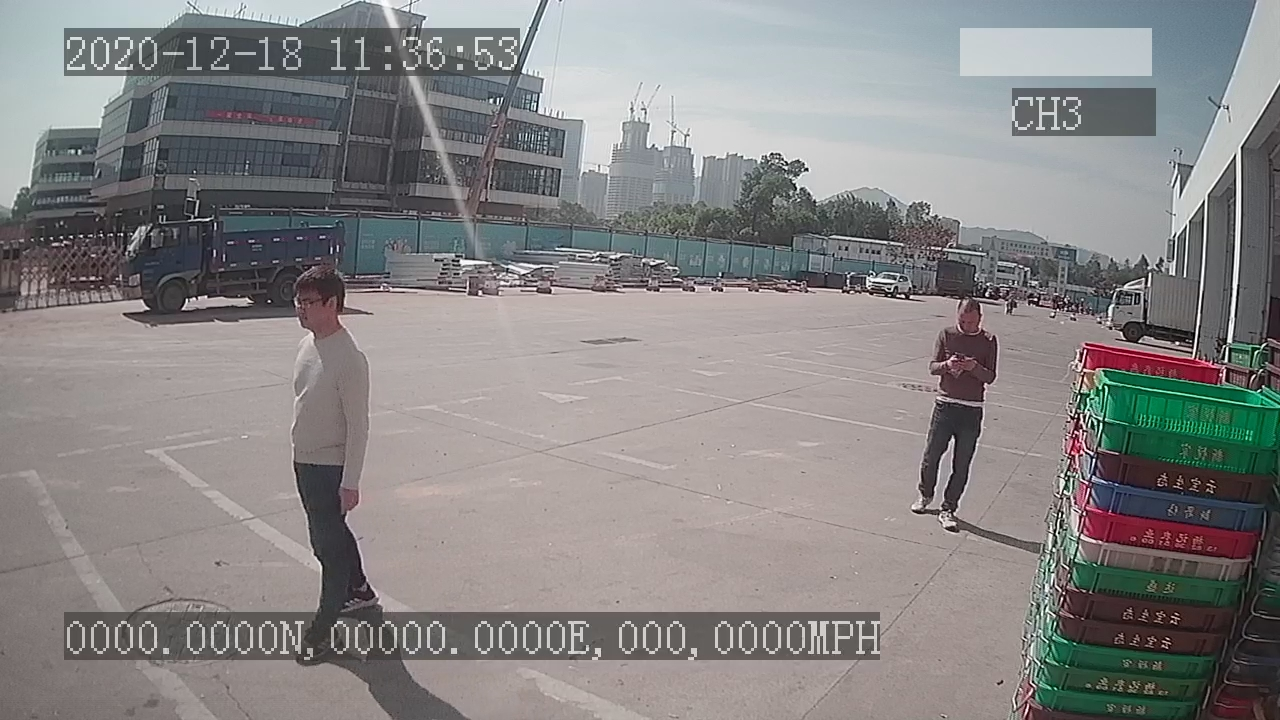person: (907, 292, 999, 534)
